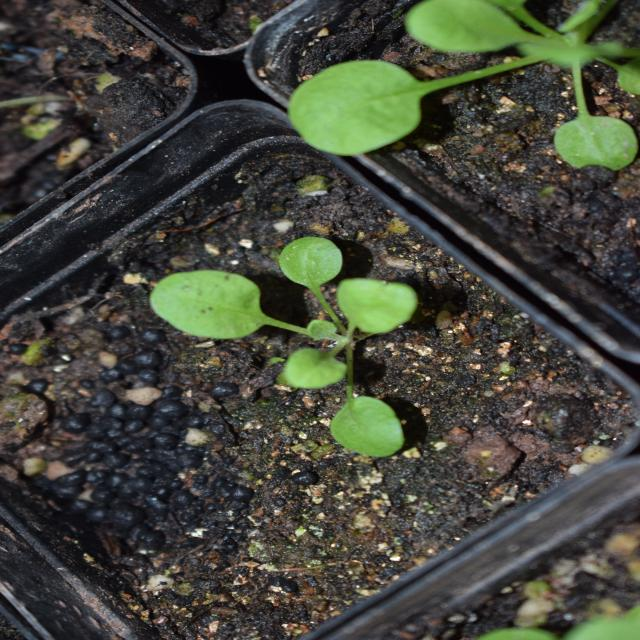Shepherd_Purse: (172, 139, 412, 484), (475, 266, 629, 608)
